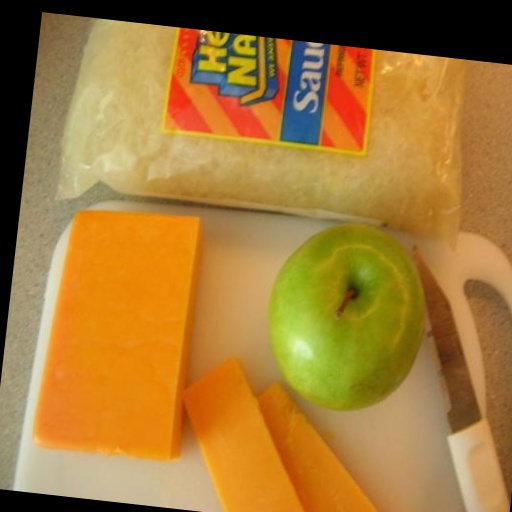fruit: (269, 224, 425, 409)
